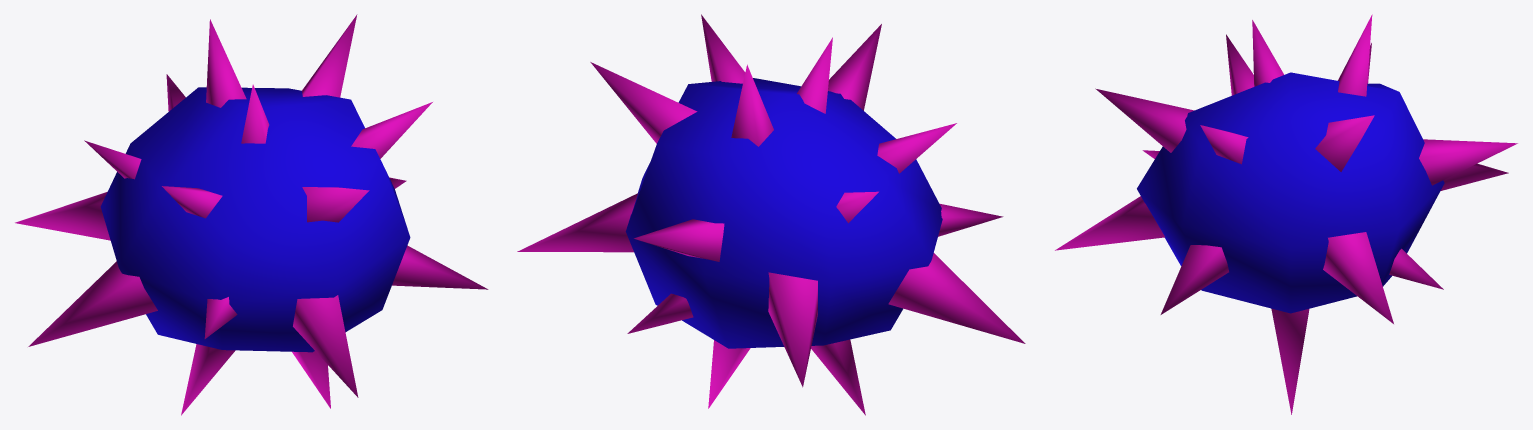
Rendered from spike-blob.fbx.
3 views of the same model, side by side, from view 1: azimuth 30°, elevation 25°; view 2: azimuth 150°, elevation 25°; view 3: azimuth 270°, elevation 25° (orthographic). The views are drawn at different scales.
Visible parts, largest first — view 1: spikes_low.001; view 2: spikes_low.001; view 3: spikes_low.001.
Boxes of the visible parts, x1,y1,x2,y2 form: spikes_low.001: [15, 14, 488, 415]; spikes_low.001: [517, 14, 1025, 415]; spikes_low.001: [1055, 14, 1517, 414].
Bounding box in the file's own units: 5.66 × 4.75 × 5.48.
